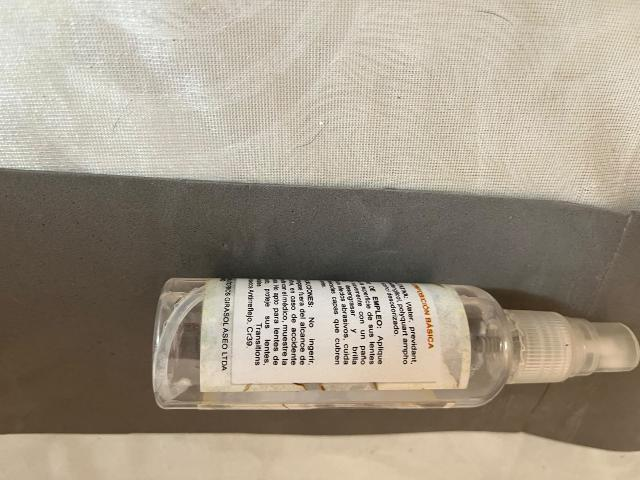PET: (137, 250, 640, 480)
